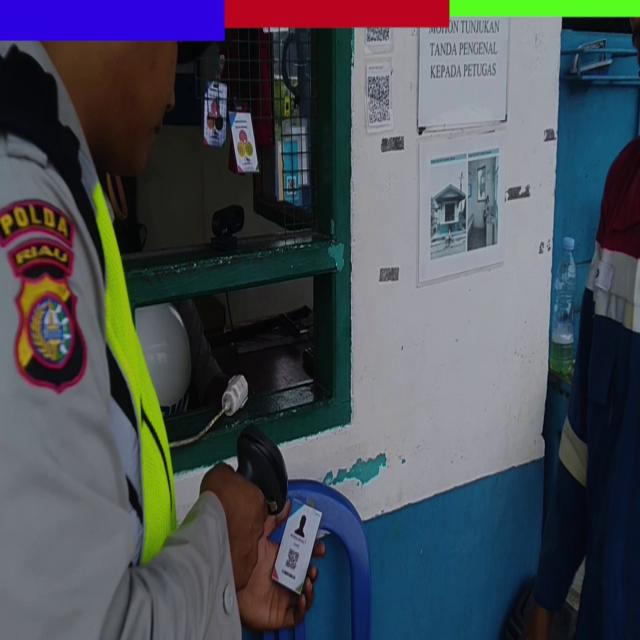No Glove: (240, 497, 326, 626), (207, 464, 265, 591)
No Overall Suit: (0, 126, 243, 639)
Overall Suit: (537, 126, 640, 639)
